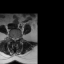CCS_severe_stenosis: (14, 37, 15, 42)
LFS_normal: (17, 36, 19, 40)
LLS_normal: (15, 36, 17, 42)
RFS_normal: (11, 36, 13, 40)
RLS_normal: (13, 36, 14, 41)
